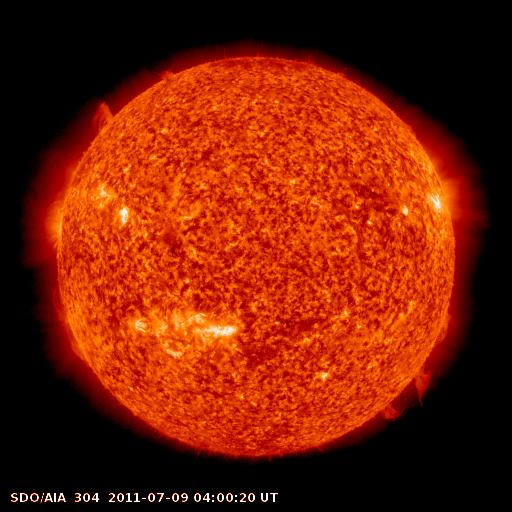prominence: (43, 280, 95, 371), (374, 363, 446, 425), (83, 92, 125, 143), (428, 304, 457, 351), (153, 59, 182, 86)
